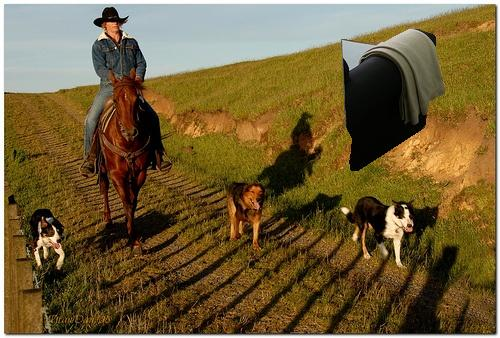tampered: (342, 28, 445, 171)
